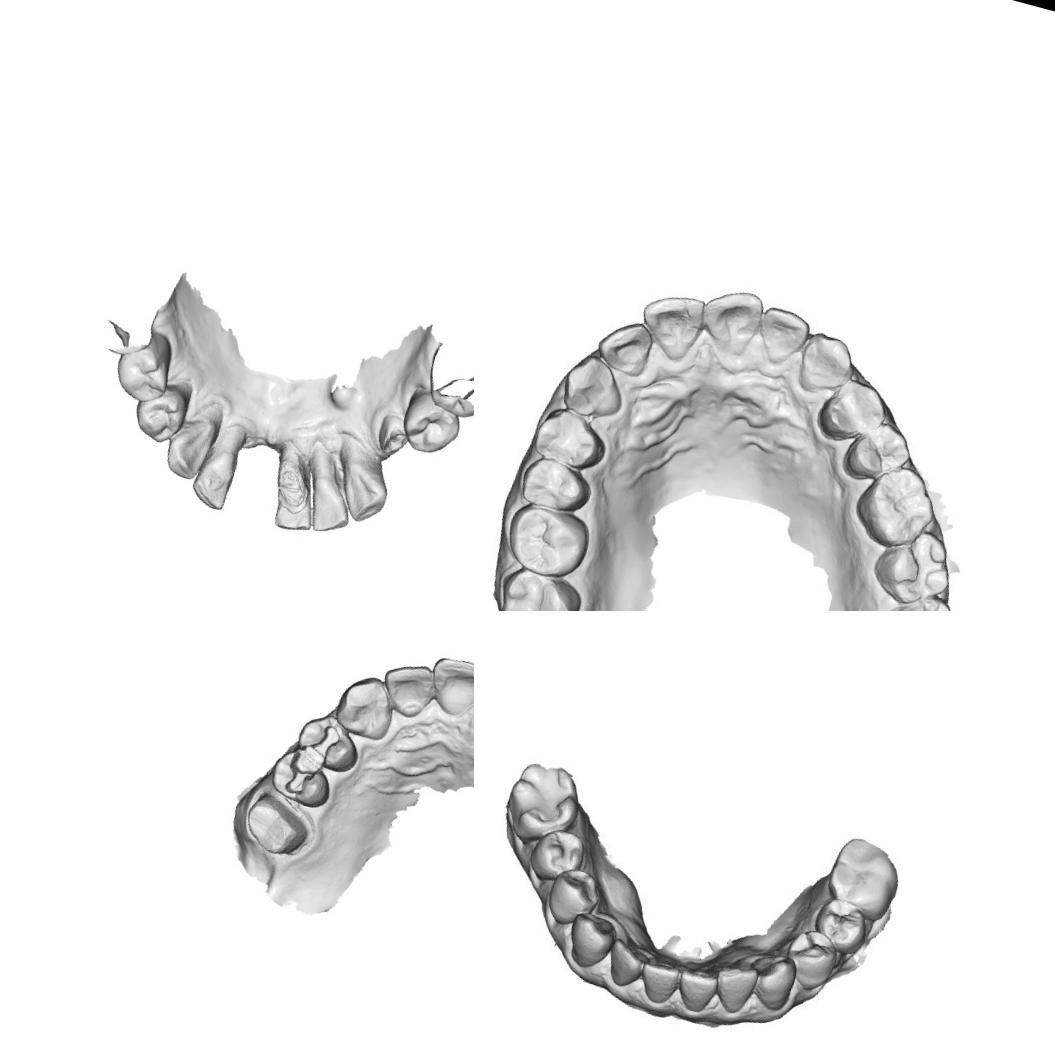canine: (553, 346, 635, 428), (328, 665, 403, 745), (324, 454, 398, 530), (159, 410, 221, 486), (559, 907, 623, 973), (796, 332, 858, 396), (750, 950, 800, 1015)
crown: (232, 782, 322, 865)
incisor: (188, 417, 252, 514), (288, 462, 362, 541), (261, 455, 325, 536), (372, 653, 441, 724), (700, 282, 762, 352), (420, 649, 474, 726), (638, 288, 700, 351), (754, 301, 814, 364), (596, 316, 656, 374), (599, 936, 652, 995), (674, 961, 726, 1019), (709, 960, 759, 1018), (635, 952, 685, 1010)
inlay: (296, 716, 350, 770), (280, 748, 322, 800)
molar: (496, 754, 584, 852), (819, 832, 906, 921), (500, 501, 590, 581), (876, 528, 958, 606), (863, 468, 936, 542), (490, 562, 587, 611), (885, 591, 957, 611)
premolar: (394, 383, 468, 462), (107, 337, 178, 410), (128, 376, 196, 452), (534, 404, 610, 468), (822, 376, 890, 446), (806, 894, 874, 960), (528, 822, 593, 889), (782, 924, 842, 996), (537, 863, 601, 930), (846, 419, 912, 482), (517, 454, 584, 512)
